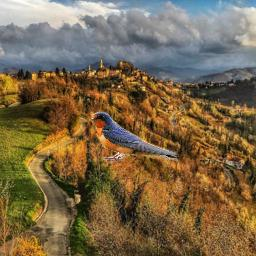Swallow: (88, 110, 178, 164)
